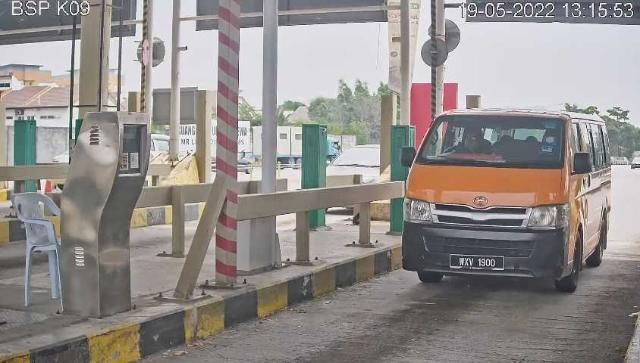License_Plate: (450, 255, 506, 274)
van: (403, 110, 612, 294)
